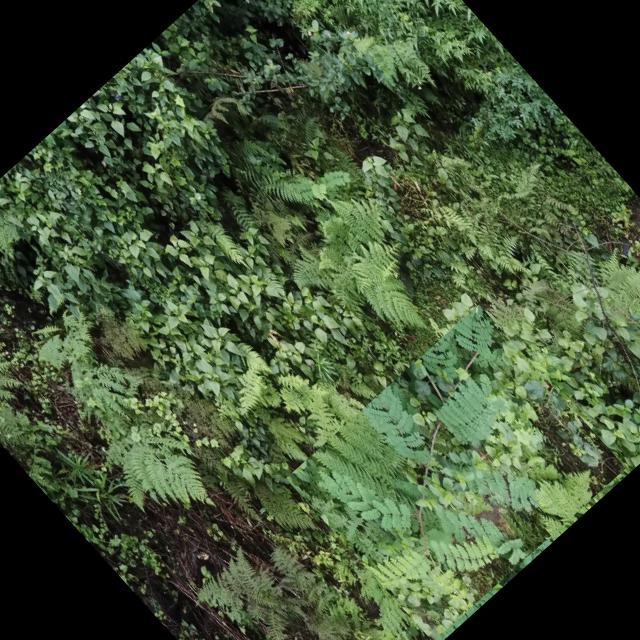Mysore-Thorn-Weed: (285, 303, 626, 640)
